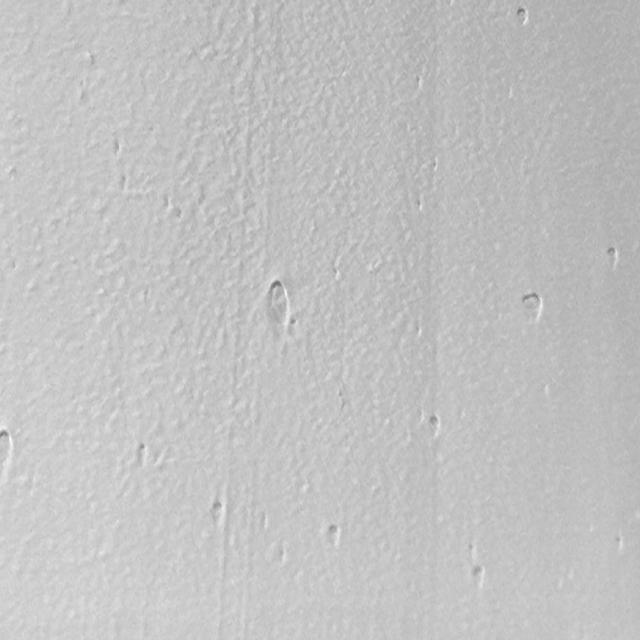pin holes: (263, 276, 293, 332), (520, 289, 546, 323), (0, 427, 16, 466), (468, 563, 488, 593), (208, 498, 228, 526), (323, 522, 343, 550), (602, 246, 622, 273), (425, 413, 443, 440), (134, 441, 152, 468), (512, 4, 532, 28), (609, 533, 628, 558), (466, 542, 481, 561), (112, 137, 125, 157)
